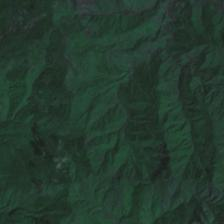landslides: (80, 3, 98, 14), (87, 23, 99, 36)
